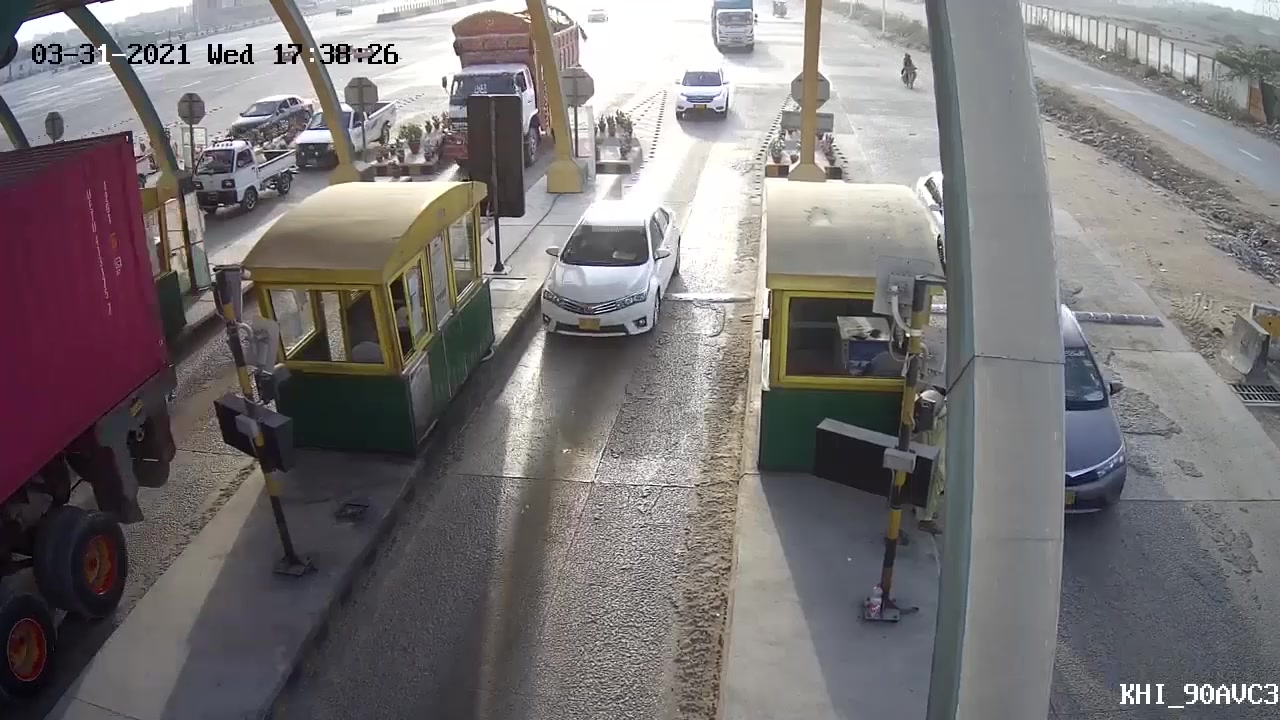F1: (526, 194, 690, 348)
